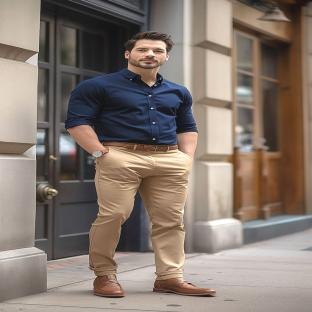Human: (65, 31, 216, 297)
